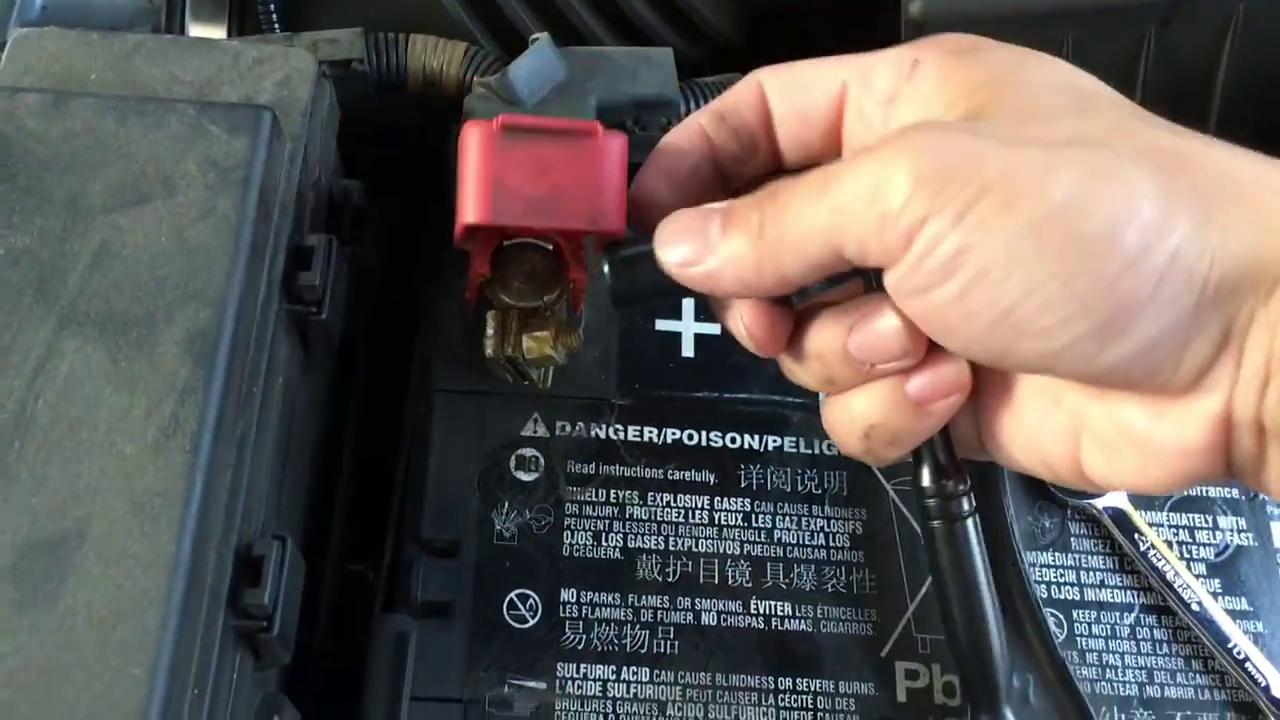battery: (453, 102, 1274, 705)
pos_connected: (401, 119, 641, 397)
pos_touched: (441, 74, 900, 457)
